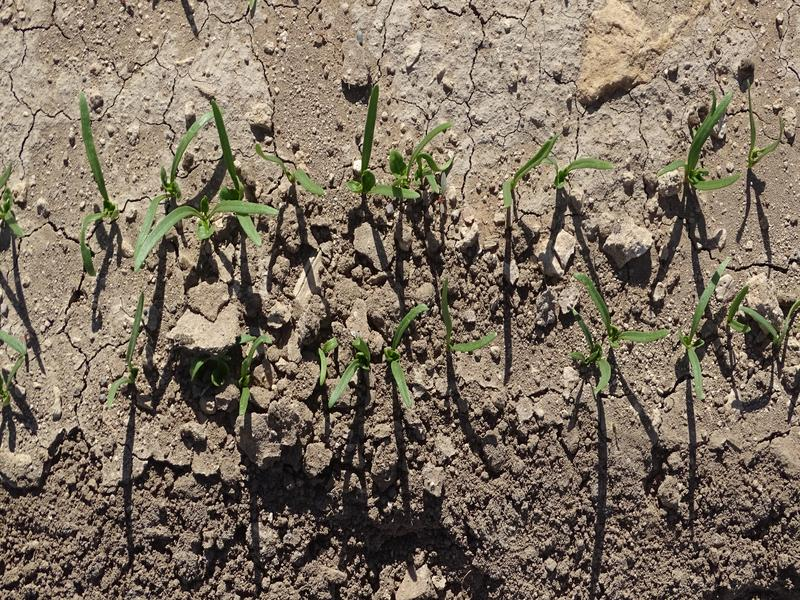Espinaca: (64, 99, 269, 249), (314, 302, 433, 408), (353, 92, 454, 203), (578, 271, 664, 390), (490, 137, 600, 216), (668, 94, 740, 188), (107, 291, 152, 399), (228, 330, 274, 422), (689, 265, 721, 393), (439, 286, 499, 351), (728, 289, 794, 346)
